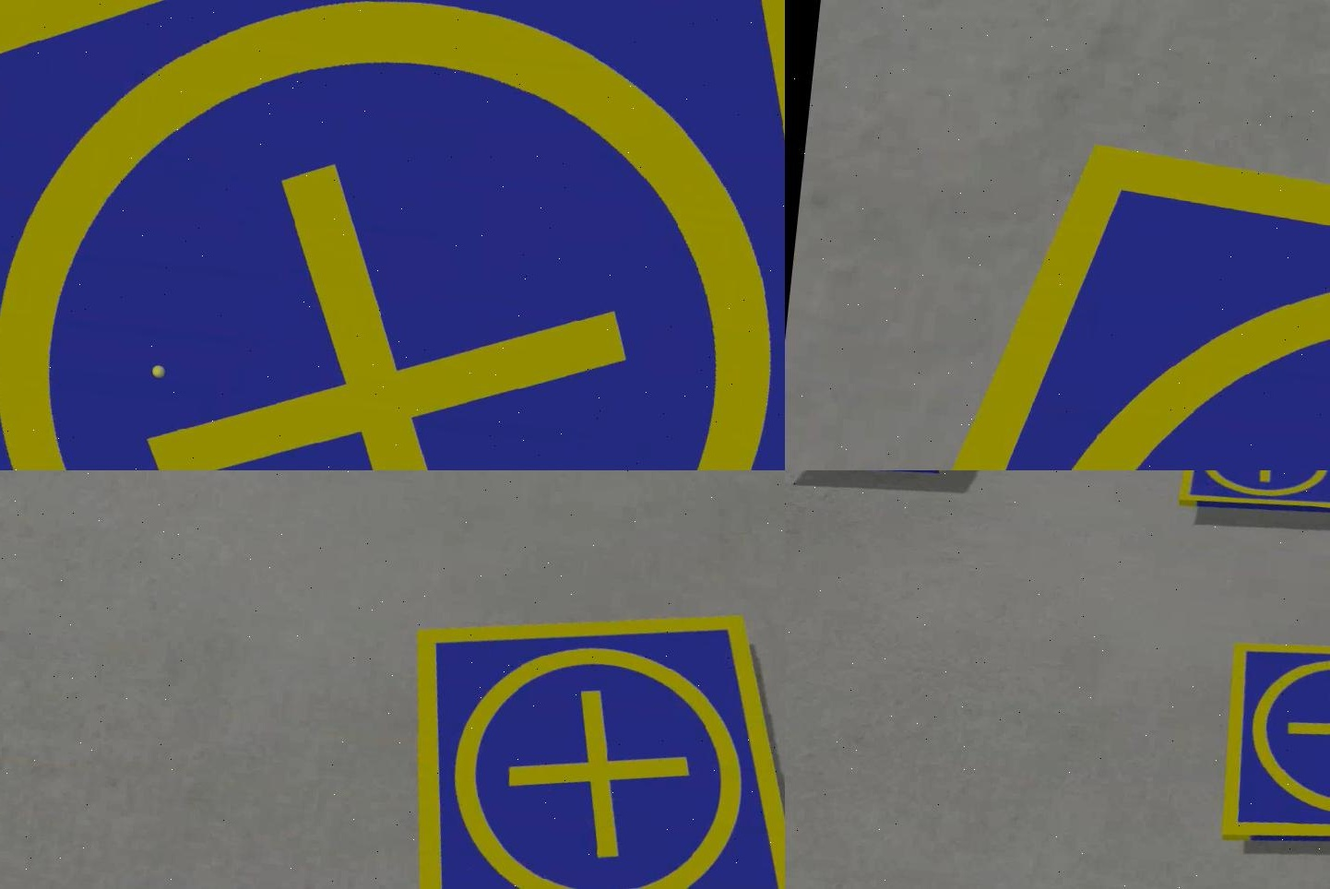small_base: (0, 1, 783, 471), (842, 120, 1328, 471), (378, 579, 783, 889), (1205, 622, 1328, 879), (1173, 471, 1328, 527)
